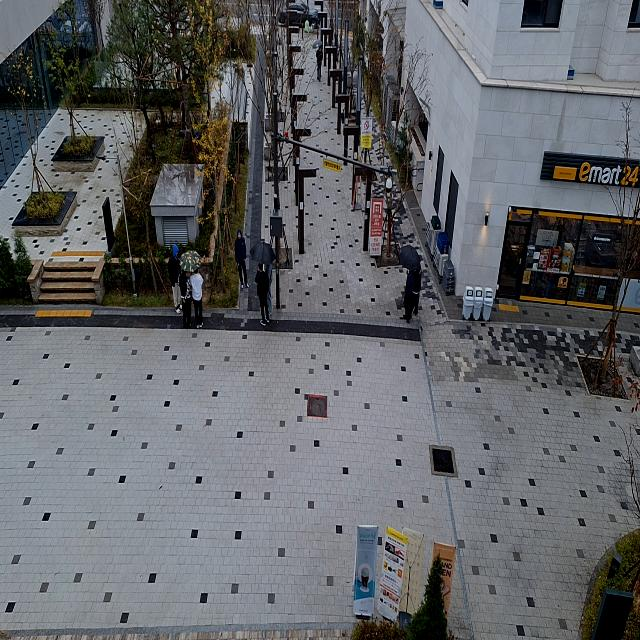Car: (274, 0, 324, 31)
